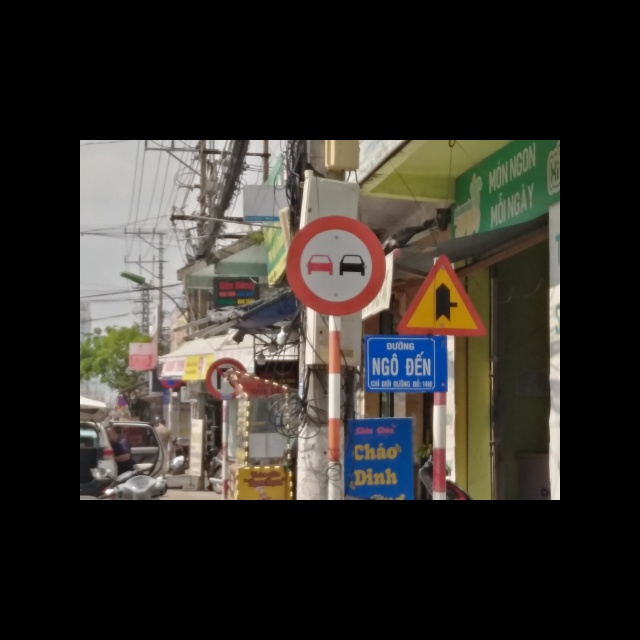Cấm vượt: (282, 216, 385, 319)
Giao nhau với đường không ưu tiên: (398, 252, 489, 338)
